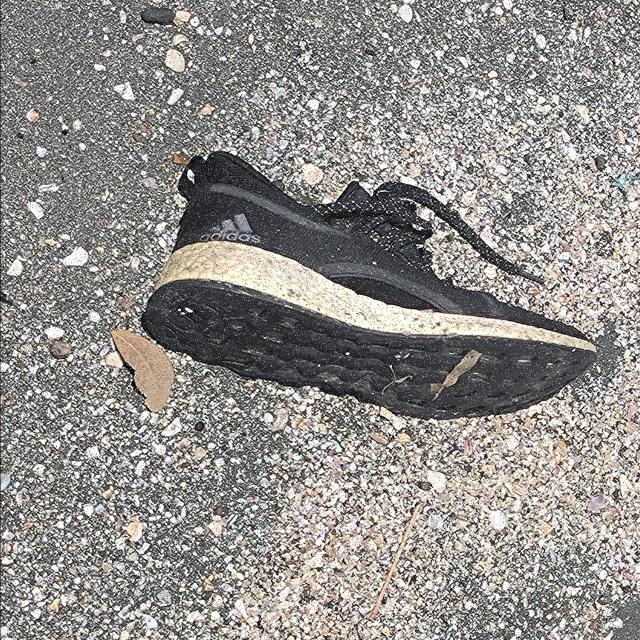rubber_waste: (144, 150, 600, 425)
